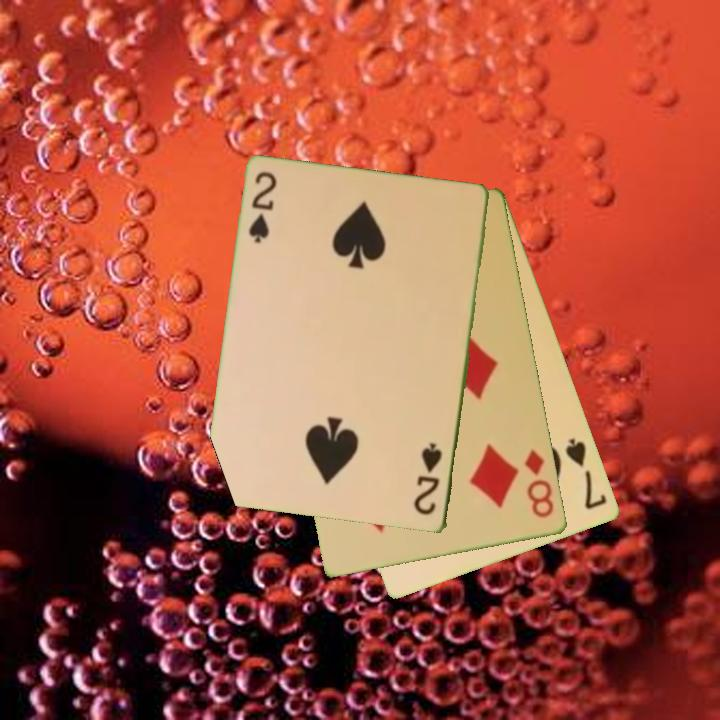2s: (411, 440, 446, 518), (245, 168, 280, 246)
7s: (562, 435, 610, 513)
8d: (521, 446, 557, 521)
